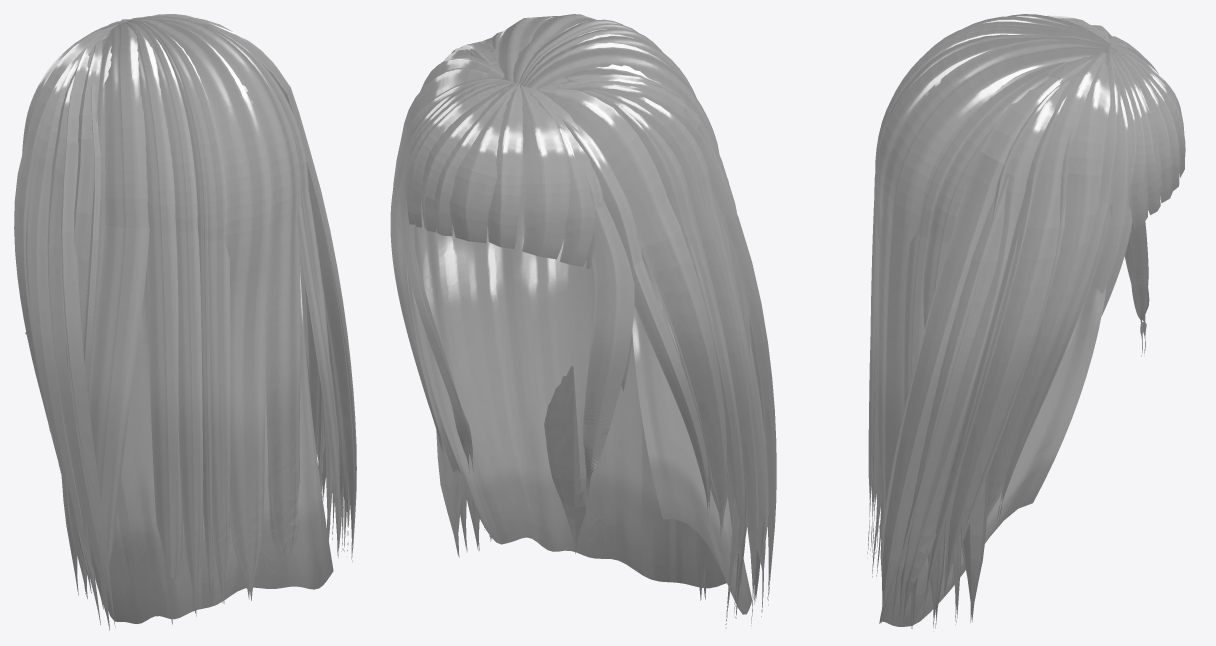
File: hair-feminine-longLoose.glb
The picture shows the model from 3 angles, left to right: view 1: azimuth 30°, elevation 25°; view 2: azimuth 150°, elevation 25°; view 3: azimuth 270°, elevation 25°; orthographic projection. The views are drawn at different scales.
Parts seen in each view (by area): view 1: hair-longLoose; view 2: hair-longLoose; view 3: hair-longLoose.
Boxes of the visible parts, x1,y1,x2,y2 form: hair-longLoose: [14, 14, 356, 630]; hair-longLoose: [390, 14, 776, 628]; hair-longLoose: [867, 14, 1185, 631].
Size of the model in its own units: 0.2813 by 0.489 by 0.3146.
3 materials, 3 textured.
